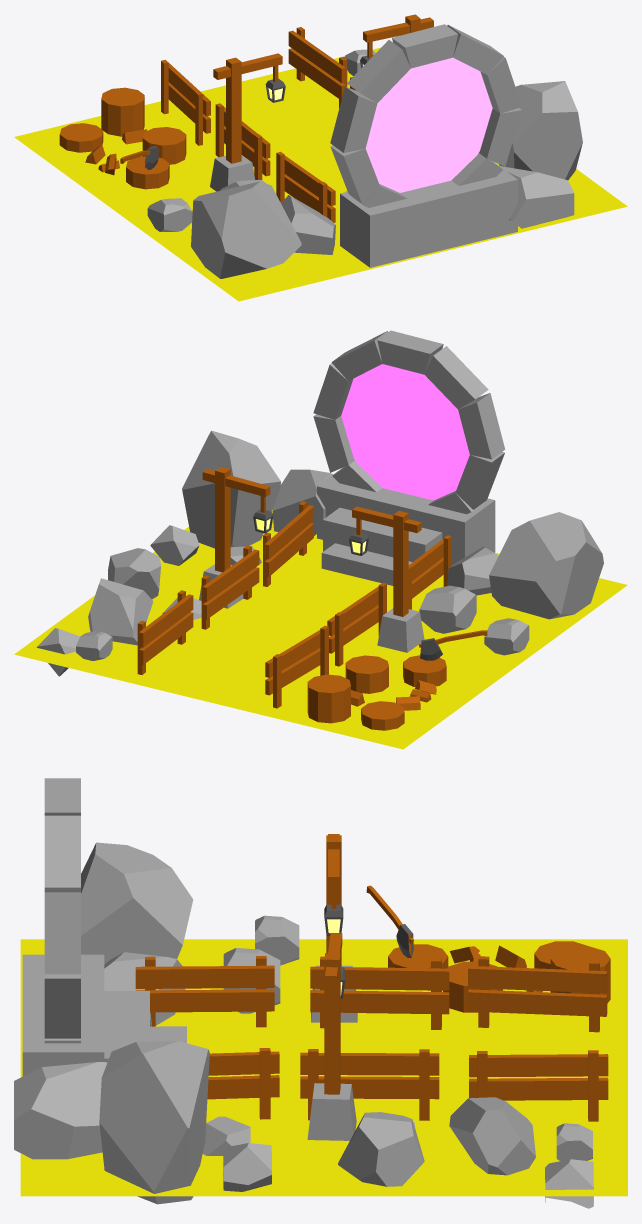
File: portal2.glb
The picture shows the model from 3 angles, top to bottom: view 1: azimuth 30°, elevation 25°; view 2: azimuth 150°, elevation 25°; view 3: azimuth 270°, elevation 25°; orthographic projection. The views are drawn at different scales.
Parts seen in each view (by area): view 1: Plane, Circle, Cube.041, Cube.019, Cube.020, Cube.026, Cube.005, Cube.004, Cube.003, Cube.037, Cube.038, Cube.025 (+17 smaller); view 2: Plane, Circle, Cube.019, Cube.020, Cube.041, Cube.021, Cube.042, Cube.003, Cube.002, Cube.005, Cube.045, Cube.026 (+27 smaller); view 3: Plane, Cube.020, Cube.019, Cube.026, Cube.003, Cube.005, Cube.004, Cube.041, Cube.045, Cube.002, Cube.021, Cube.028 (+20 smaller).
Part boxes in pixels (x1,y1,x2,y2): Plane: (14,47,627,301); Circle: (365,57,492,192); Cube.041: (340,161,517,267); Cube.019: (191,181,301,278); Cube.020: (499,81,582,180); Cube.026: (499,166,574,228); Cube.005: (288,27,347,108); Cube.004: (276,151,335,222); Cube.003: (161,59,210,145); Cube.037: (347,40,410,103); Cube.038: (330,86,377,152); Cube.025: (281,195,335,254); Plane: (14,510,627,749); Circle: (341,364,469,500); Cube.019: (489,512,603,619); Cube.020: (182,430,280,548); Cube.041: (317,467,495,564); Cube.021: (88,578,153,645); Cube.042: (323,507,442,561); Cube.003: (265,625,328,708); Cube.002: (201,545,259,629); Cube.005: (137,590,193,674); Cube.045: (327,582,386,666); Cube.026: (272,469,332,535); Plane: (20,939,627,1196); Cube.020: (99,1041,209,1204); Cube.019: (81,842,193,964); Cube.026: (14,1062,107,1159); Cube.003: (468,956,607,1032); Cube.005: (469,1050,608,1121); Cube.004: (135,956,274,1027); Cube.041: (22,954,104,1076); Cube.045: (310,956,449,1029); Cube.002: (300,1049,439,1120); Cube.021: (449,1097,535,1175); Cube.028: (338,1112,424,1186).
Bounding box in the file's own units: 4 × 2.26 × 4.04.
